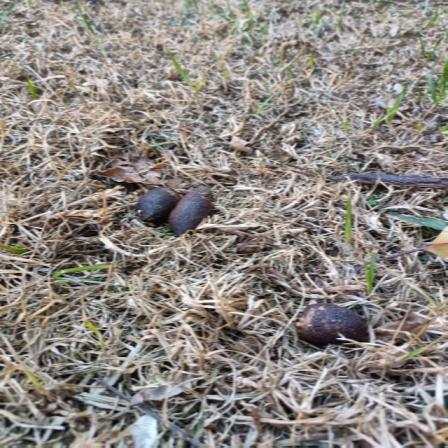dog-poop: (137, 179, 217, 232), (298, 294, 364, 350)
